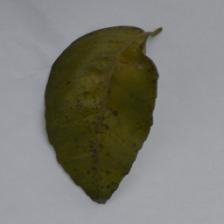greening: (46, 47, 140, 176)
